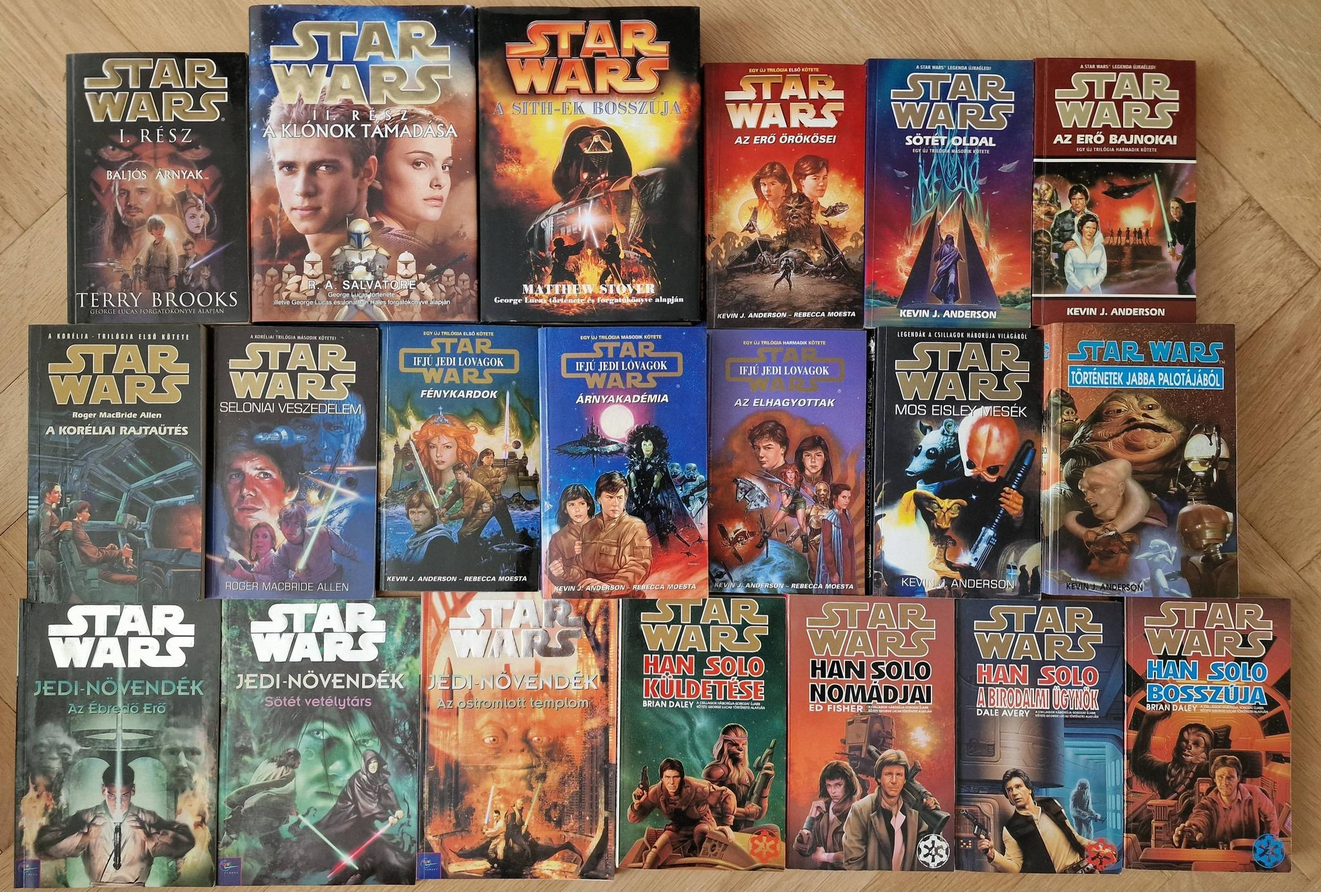comic: (477, 5, 703, 324), (249, 5, 476, 322), (15, 600, 220, 888), (217, 598, 421, 885), (418, 591, 619, 882), (1042, 322, 1238, 597), (28, 324, 207, 603), (953, 597, 1131, 874), (67, 53, 248, 323), (206, 324, 380, 600), (784, 596, 958, 872), (1124, 597, 1294, 871), (871, 328, 1043, 597), (619, 596, 786, 870), (541, 326, 707, 597), (866, 59, 1032, 328), (700, 62, 866, 328), (1031, 58, 1197, 324), (378, 324, 541, 591), (709, 330, 867, 595)
